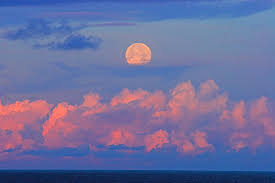moon: (123, 40, 153, 66)
